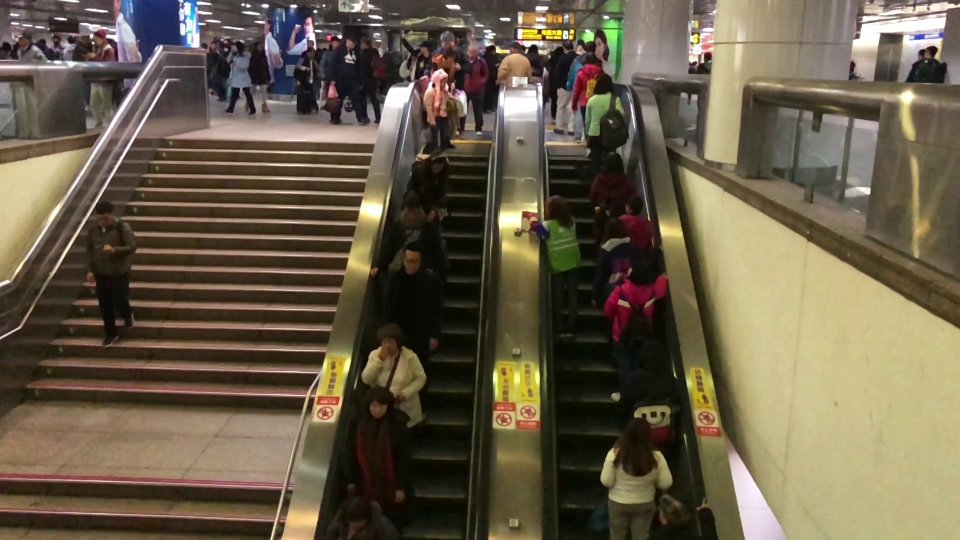person_head: (622, 417, 654, 448), (637, 339, 668, 370), (365, 385, 393, 417), (377, 322, 403, 355), (659, 500, 690, 526), (343, 496, 367, 527), (626, 258, 654, 282), (403, 191, 424, 221), (93, 200, 116, 227), (402, 245, 422, 276), (544, 194, 568, 219), (603, 217, 624, 239), (623, 194, 644, 214), (605, 151, 623, 173), (594, 73, 613, 93), (430, 156, 447, 174), (92, 28, 107, 45), (440, 30, 454, 48), (466, 45, 479, 59), (561, 38, 574, 52), (360, 35, 372, 50), (584, 52, 598, 64), (18, 33, 30, 46), (508, 42, 521, 54), (583, 40, 596, 52), (926, 45, 938, 58), (443, 49, 454, 63), (438, 72, 448, 87), (346, 35, 357, 48), (329, 38, 339, 50), (305, 47, 314, 59), (419, 42, 429, 52), (702, 51, 711, 62), (918, 47, 926, 59), (51, 34, 61, 43), (231, 42, 241, 51), (66, 34, 74, 44), (529, 44, 539, 52), (256, 41, 263, 52), (849, 60, 855, 71), (691, 59, 696, 65)
person_vbox: (343, 385, 414, 519), (602, 258, 668, 402), (598, 417, 673, 540), (522, 194, 581, 340), (85, 200, 137, 348), (359, 322, 427, 430), (589, 217, 663, 309), (383, 245, 444, 352), (622, 339, 683, 445), (368, 191, 443, 276), (419, 31, 471, 139), (587, 152, 637, 230), (584, 73, 630, 151), (330, 34, 369, 123), (566, 41, 598, 142), (85, 28, 117, 125), (329, 496, 396, 540), (457, 45, 488, 139), (407, 148, 448, 217), (422, 72, 458, 149), (655, 497, 718, 540), (224, 41, 257, 116), (552, 38, 576, 136), (570, 52, 604, 121), (359, 34, 385, 124), (244, 40, 272, 114), (618, 194, 656, 247), (296, 47, 322, 113), (401, 32, 431, 81), (496, 42, 533, 81), (431, 49, 462, 89), (915, 45, 938, 83), (320, 37, 339, 80), (16, 31, 45, 59), (905, 47, 927, 80), (526, 44, 544, 75), (686, 58, 696, 105), (49, 34, 65, 58), (697, 50, 712, 73), (64, 33, 75, 59), (849, 60, 862, 80)
